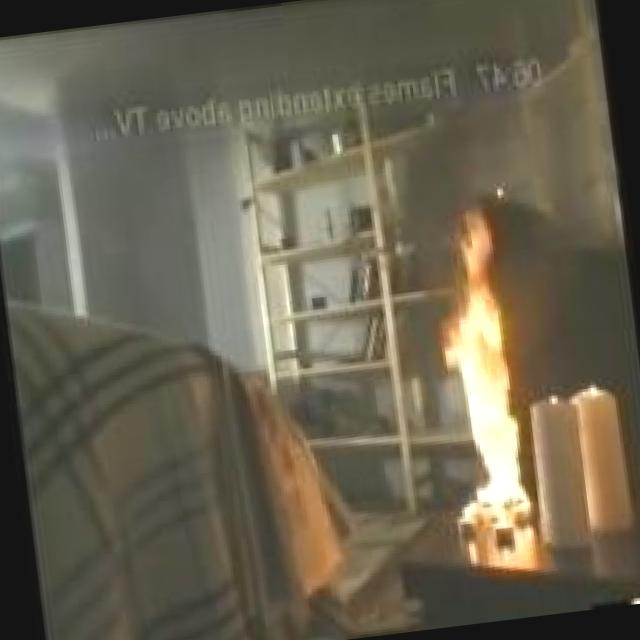fire: (392, 178, 594, 561)
